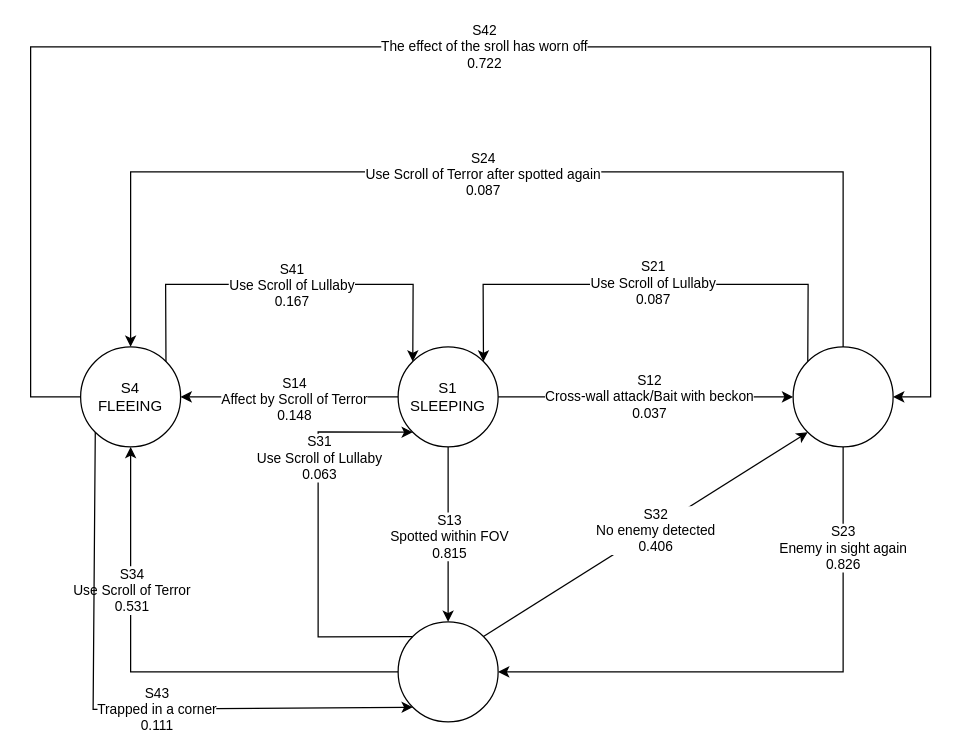
The diagram is 963 pixels wide and 756 high, and some of its shapes have lost their labels. Each missing label, with the centre of its shape:
"S2 WANDERING" goes at point 842,396.
"S3 HUNTING" goes at point 447,671.
